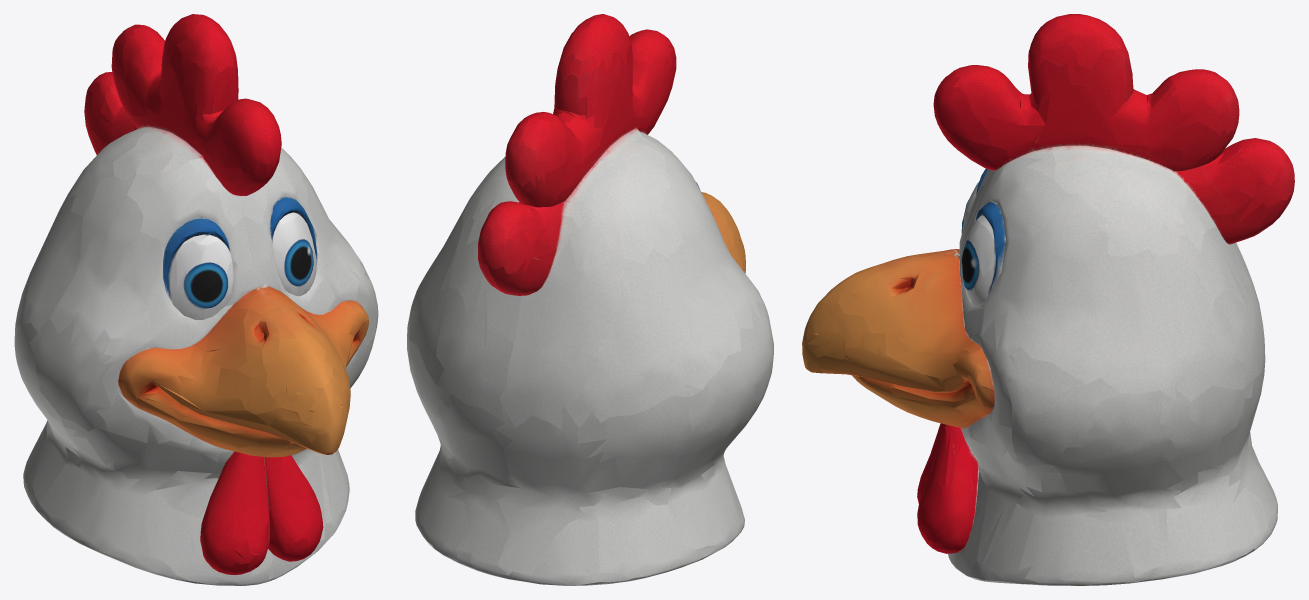
The model's file is mascot_head_chicken.glb.
3 renders of one model, left to right at view 1: azimuth 30°, elevation 25°; view 2: azimuth 150°, elevation 25°; view 3: azimuth 270°, elevation 25°, orthographic. The views are drawn at different scales.
Bounding box in the file's own units: 1.19 × 1.9 × 1.53.
Materials: 1 (1 with a texture image).
